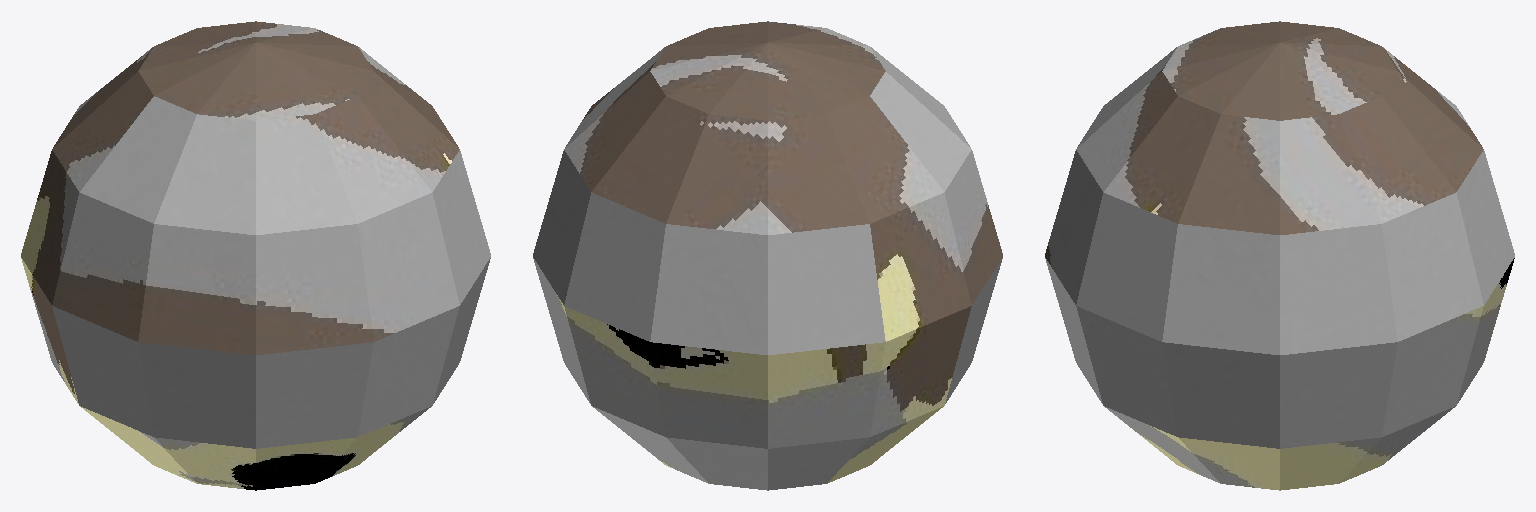
3 views of the same model, side by side, from view 1: azimuth 30°, elevation 25°; view 2: azimuth 150°, elevation 25°; view 3: azimuth 270°, elevation 25° (orthographic).
Parts seen in each view (by area): view 1: Face; view 2: Face; view 3: Face.
Part boxes in pixels (bbox=[...]): Face: bbox=[21, 21, 490, 490]; Face: bbox=[533, 21, 1002, 490]; Face: bbox=[1045, 21, 1514, 490].
Size of the model in its own units: 28.25 by 28.25 by 28.25.
Materials: 1 (1 with a texture image).